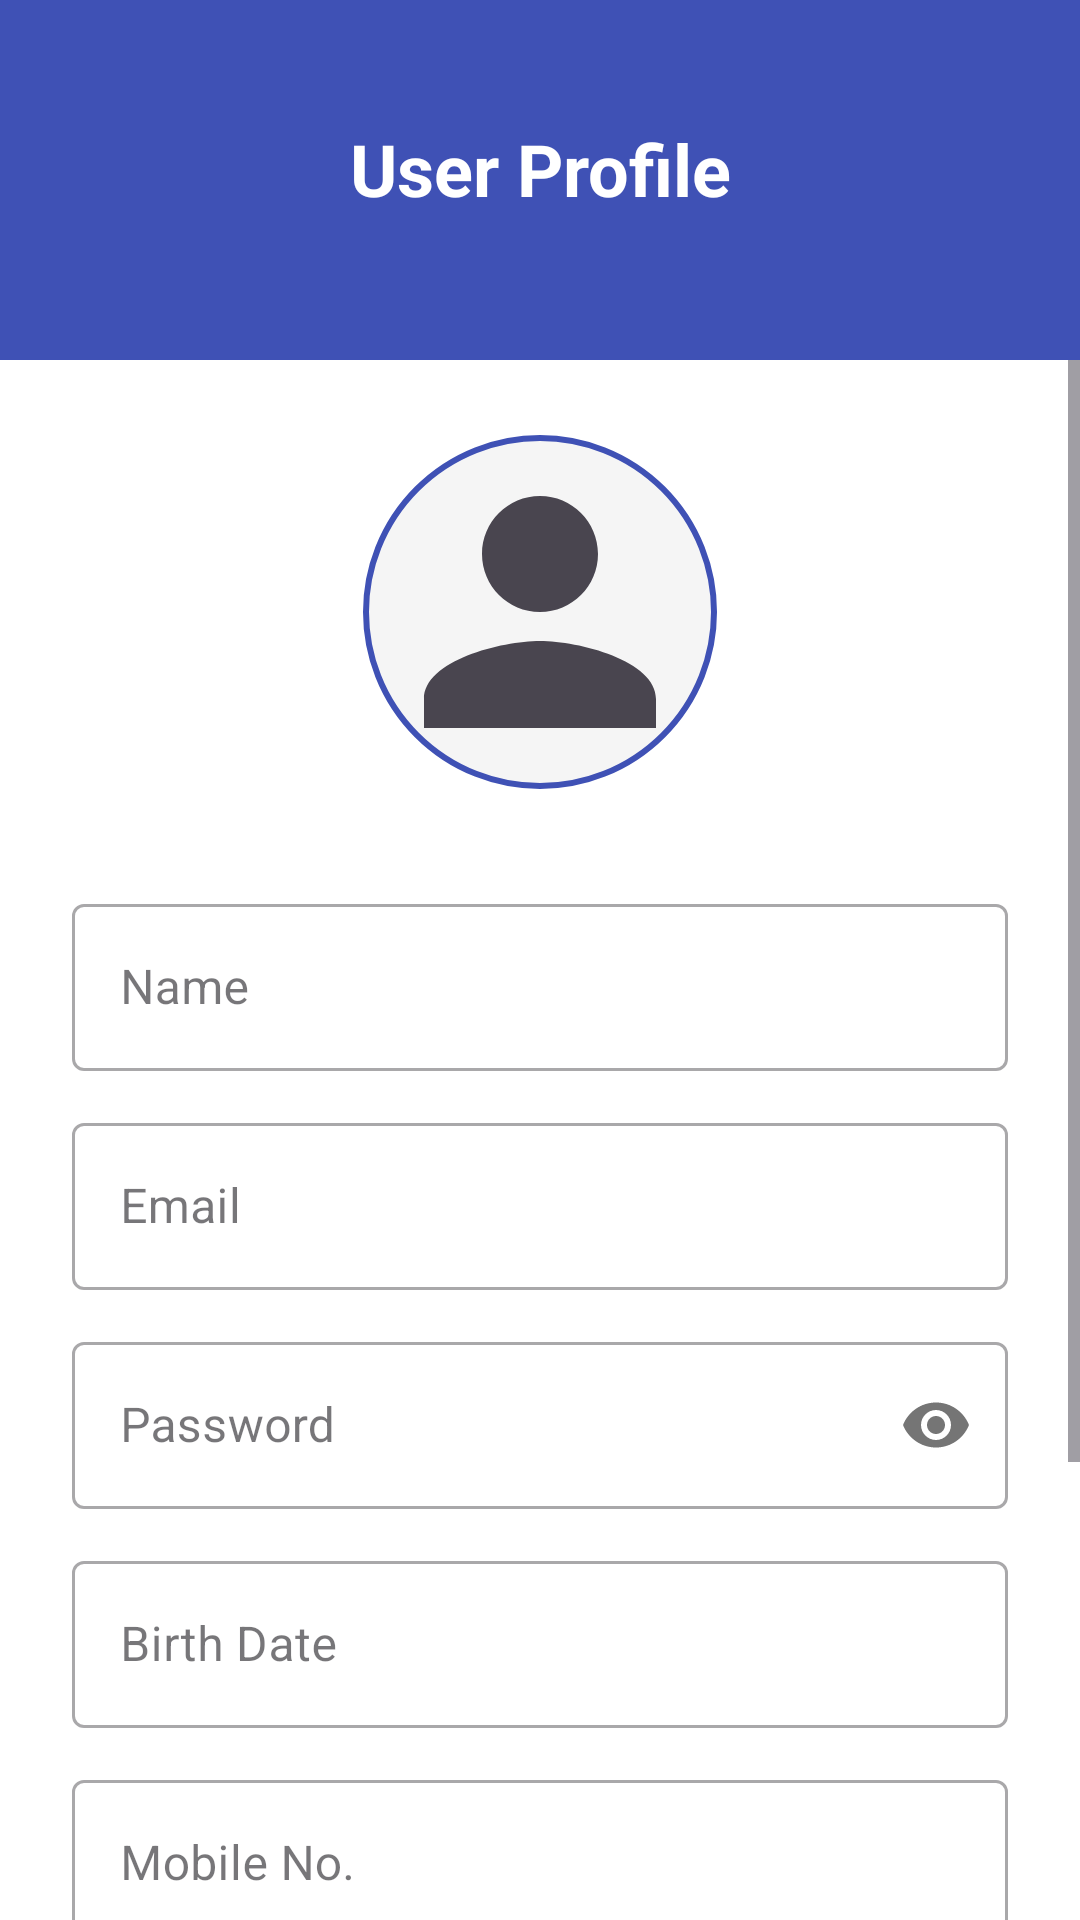

Locate icon controls on the screen. Image size 1080×1920, boxes as (x1, y1, x2, y2).
profile: (363, 435, 717, 789)
